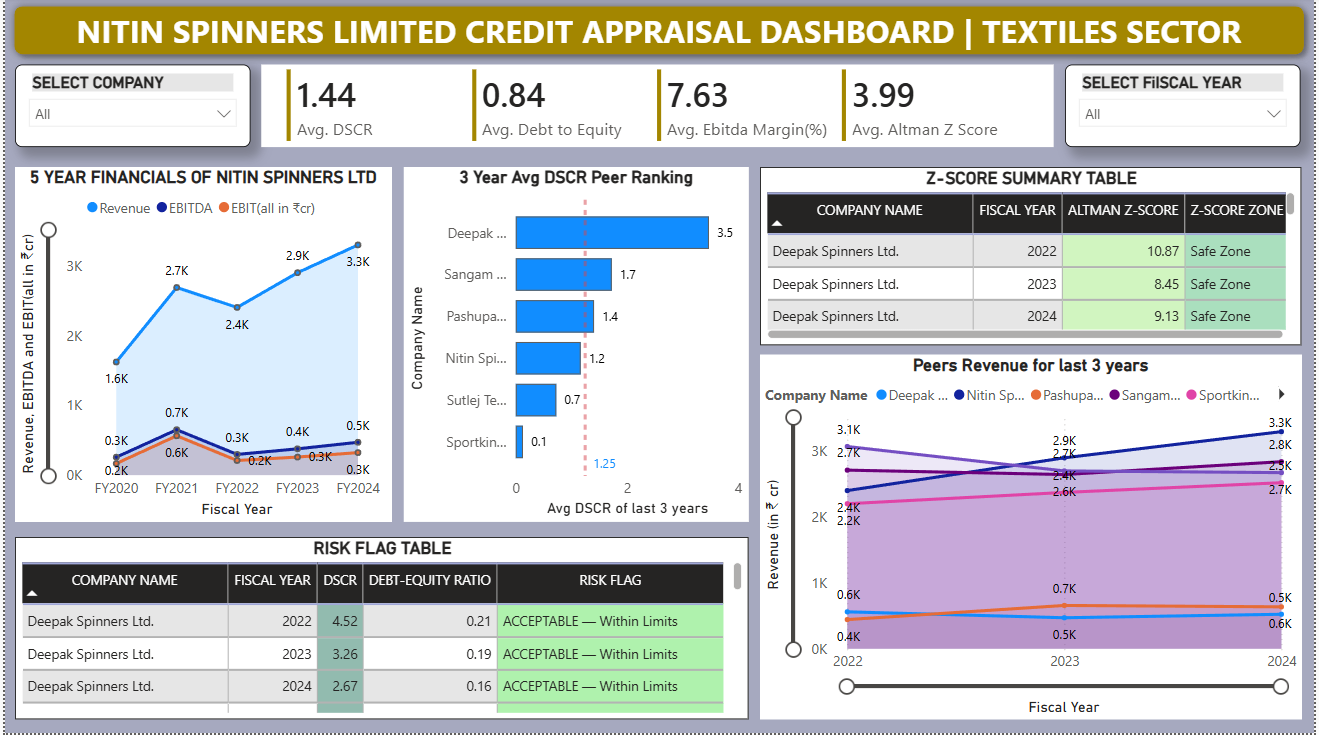

This screenshot's page, from the dashboard's own definition file:
{"tool":"powerbi","page":{"name":"Credit Appraisal Dashboard (Nitin Spinners Ltd.)","canvas":[1280,720],"ordinal":0},"visuals":[{"type":"shape","box":[0,0,1279.7,65.2],"z":0},{"type":"slicer","fields":{"Values":["p1.company_name"]},"box":[9.6,65.9,230.5,81],"z":1000},{"type":"slicer","fields":{"Values":["Pbi Export.Fiscal Year"]},"box":[1037.4,65.9,230.5,81],"z":2000},{"type":"cardVisual","fields":{"Data":["Avg(p1.dscr)","Avg(p1.debt_to_equity)","Avg(p1.ebitda_margin_pct)","Avg(p5.altman_z_score)"]},"box":[251.1,65.9,775.3,81],"z":3000},{"type":"lineChart","title":"5 YEAR FINANCIALS OF NITIN SPINNERS LTD","fields":{"Category":["Pbi Export.Ratio"],"Y":["Sum(Pbi Export.Revenue from Operations)","Sum(Pbi Export.EBITDA)","Sum(Pbi Export.EBIT)"]},"box":[9.6,166,367.8,347.2],"z":4000},{"type":"clusteredBarChart","title":"3 Year Avg DSCR Peer Ranking","fields":{"Category":["p4.company_name"],"Y":["Sum(p4.avg_dscr_3yr)"]},"box":[389.7,166,337.6,347.2],"z":5000},{"type":"lineChart","title":"Peers Revenue for last 3 years","fields":{"Category":["p3.fiscal_year"],"Series":["p3.company_name"],"Y":["Sum(p3.revenue)"]},"box":[738.3,349.9,529.7,356.8],"z":6000},{"type":"tableEx","title":"RISK FLAG TABLE","fields":{"Values":["p2.company_name","p2.fiscal_year","p2.dscr","p2.de_ratio","p2.risk_flag"]},"box":[9.6,528.3,717.7,178.4],"z":7000},{"type":"tableEx","title":"Z-SCORE SUMMARY TABLE","fields":{"Values":["p5.company_name","p5.fiscal_year","p5.altman_z_score","p5.z_score_zone"]},"box":[738.3,166,529.7,174.3],"z":8000}]}

Visuals, with their boxes in screenshot pixels (x1, y1, x2, y2), scaled from the page's 1280x720 canvas onto the 1319x735 screenshot:
shape: region(0, 0, 1318, 67)
slicer - p1.company_name: region(10, 67, 247, 150)
slicer - Pbi Export.Fiscal Year: region(1069, 67, 1307, 150)
cardVisual - Avg(p1.dscr) x Avg(p1.debt_to_equity): region(259, 67, 1058, 150)
"5 YEAR FINANCIALS OF NITIN SPINNERS LTD" lineChart: region(10, 169, 389, 524)
"3 Year Avg DSCR Peer Ranking" clusteredBarChart: region(402, 169, 749, 524)
"Peers Revenue for last 3 years" lineChart: region(761, 357, 1307, 721)
"RISK FLAG TABLE" tableEx: region(10, 539, 749, 721)
"Z-SCORE SUMMARY TABLE" tableEx: region(761, 169, 1307, 347)
